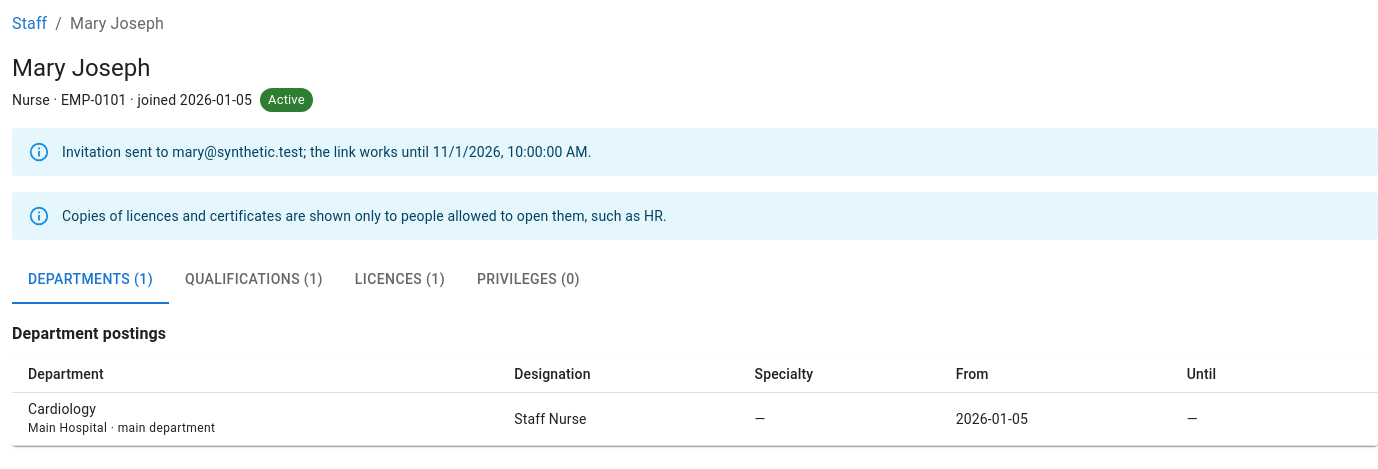
Test: Staff seen through a department grant (HIMS-STAFF-008) › a person's page hides their documents and every change
Expected: the text "Copies of licences and certificates are shown only" is shown, [62, 208, 667, 224]
What coordinates should you click on to do the following:
click the tab "Licences (1)"
I would click on:
 (400, 280)
Its box is [339, 256, 461, 304].
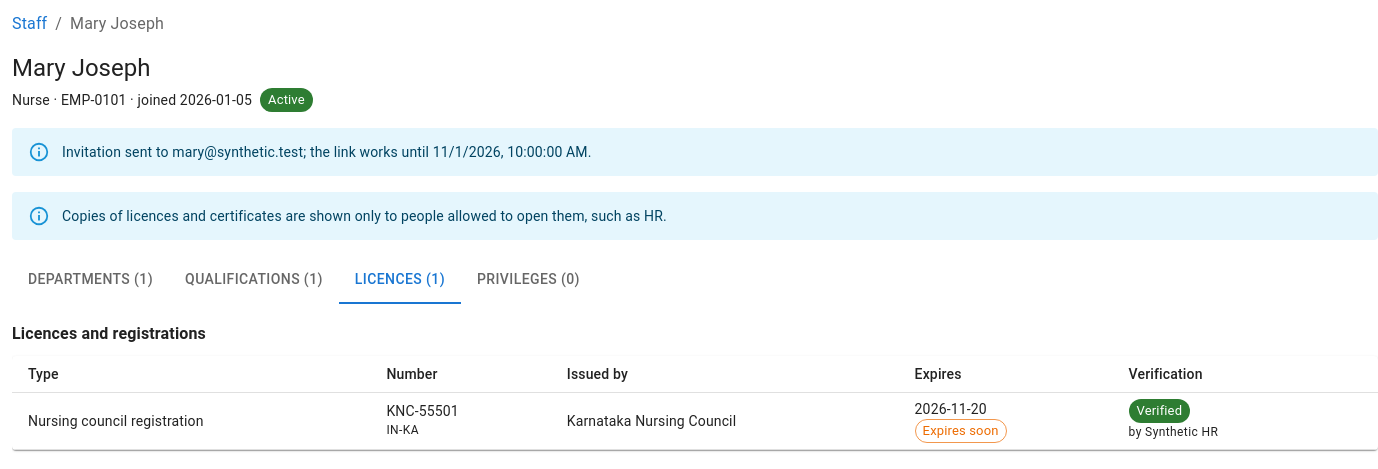
Expected: the table named "Licences" shows "KNC-55501", [386, 403, 459, 419]
